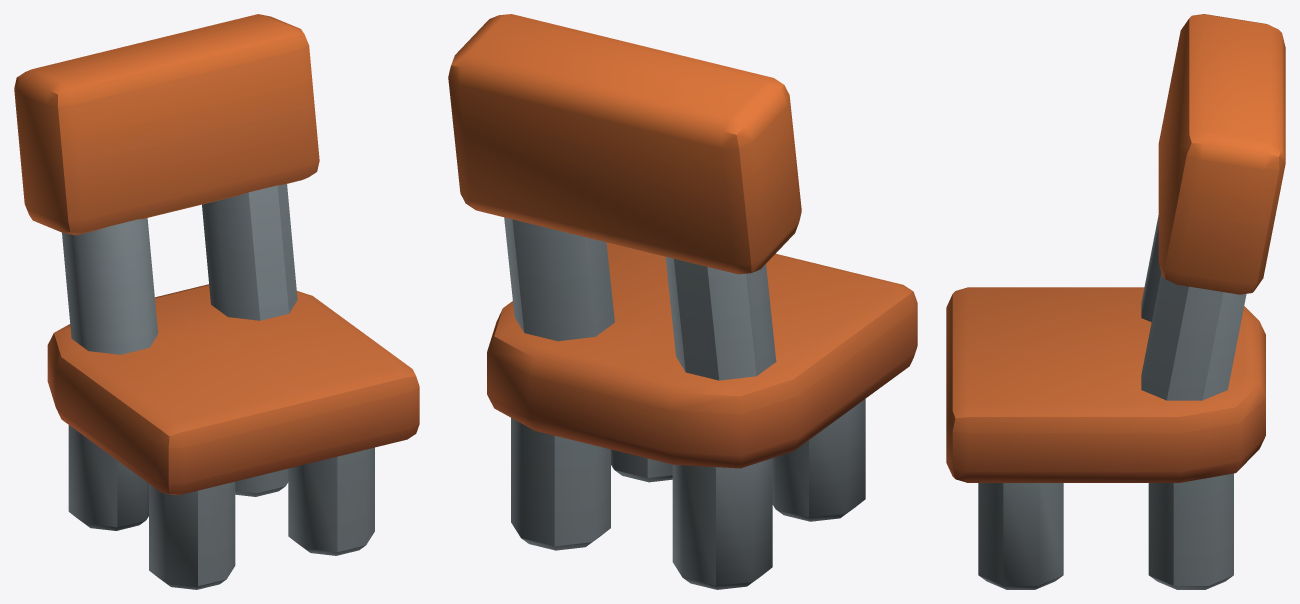
The model's file is market-chair.glb.
The picture shows the model from 3 angles, left to right: view 1: azimuth 30°, elevation 25°; view 2: azimuth 150°, elevation 25°; view 3: azimuth 270°, elevation 25°; orthographic projection. The views are drawn at different scales.
Visible parts, largest first — view 1: chair_A; view 2: chair_A; view 3: chair_A.
Boxes of the visible parts, bbox=[...] form: chair_A: bbox=[14, 14, 419, 589]; chair_A: bbox=[448, 14, 917, 589]; chair_A: bbox=[946, 14, 1285, 589].
Bounding box in the file's own units: 24574 × 39584 × 26091.
Materials: 1 (1 with a texture image).
